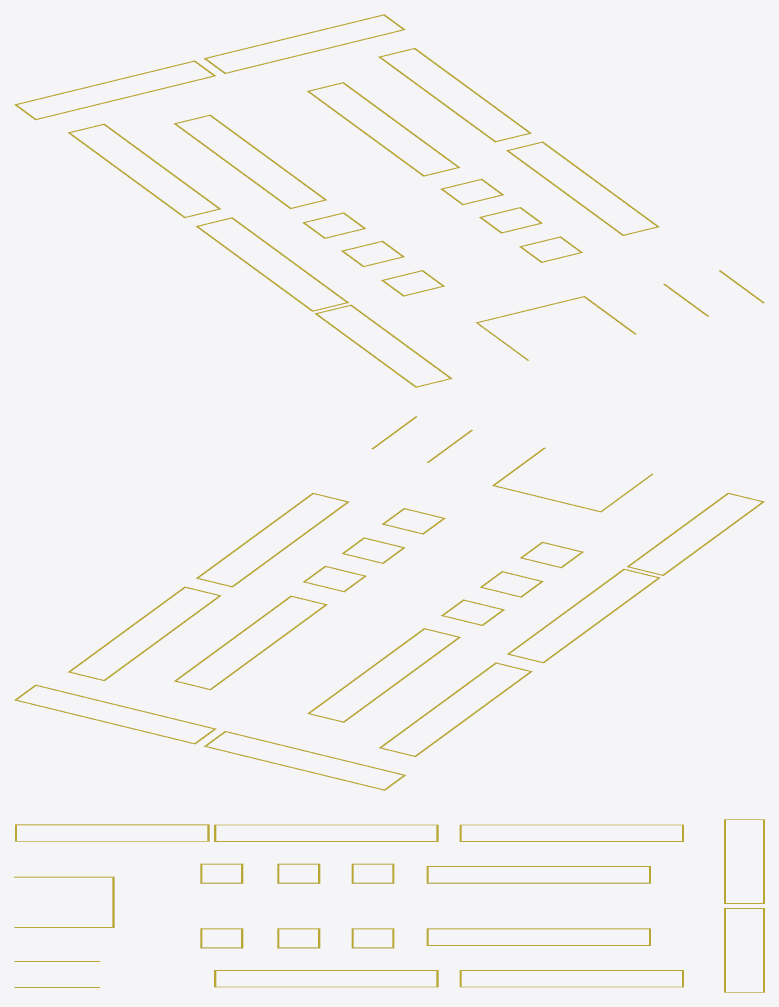
File: cat garis.fbx
3 views of the same model, one above another, from view 1: azimuth 30°, elevation 25°; view 2: azimuth 150°, elevation 25°; view 3: azimuth 270°, elevation 25° (orthographic). The views are drawn at different scales.
Visible parts, largest first — view 1: 08. cat garis; view 2: 08. cat garis; view 3: 08. cat garis.
Boxes of the visible parts, box(x1,y1,x2,y2) form: 08. cat garis: box(14, 14, 764, 387); 08. cat garis: box(14, 416, 764, 790); 08. cat garis: box(14, 819, 764, 992).
Size of the model in its own units: 1681 by 0.1992 by 3073.
